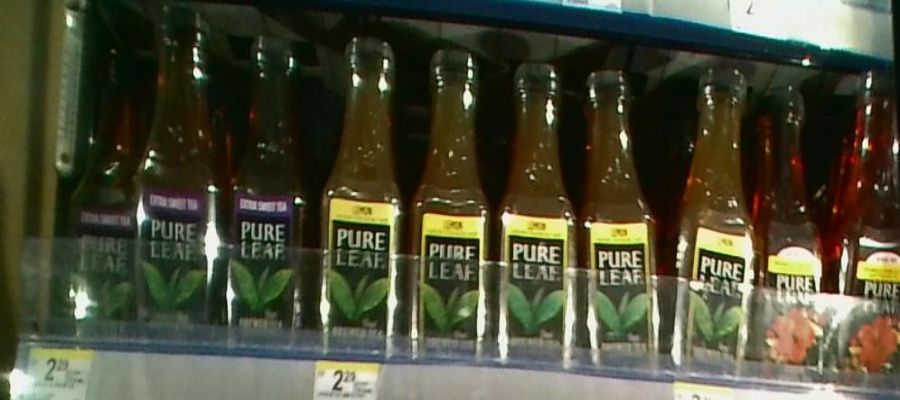bottle: (406, 36, 495, 361), (319, 33, 404, 361), (224, 27, 309, 354), (668, 58, 755, 377), (139, 5, 220, 344), (497, 48, 580, 367), (583, 62, 662, 376), (61, 40, 139, 344), (757, 68, 828, 388), (832, 64, 900, 393)
